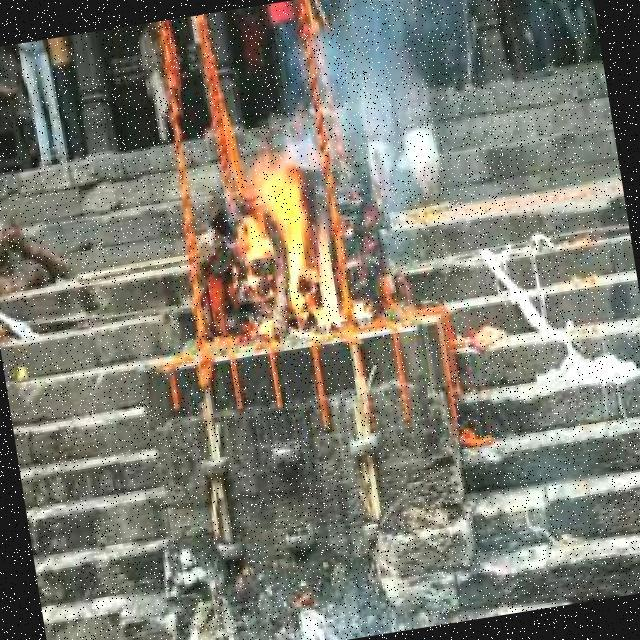Fire: (222, 142, 347, 345)
